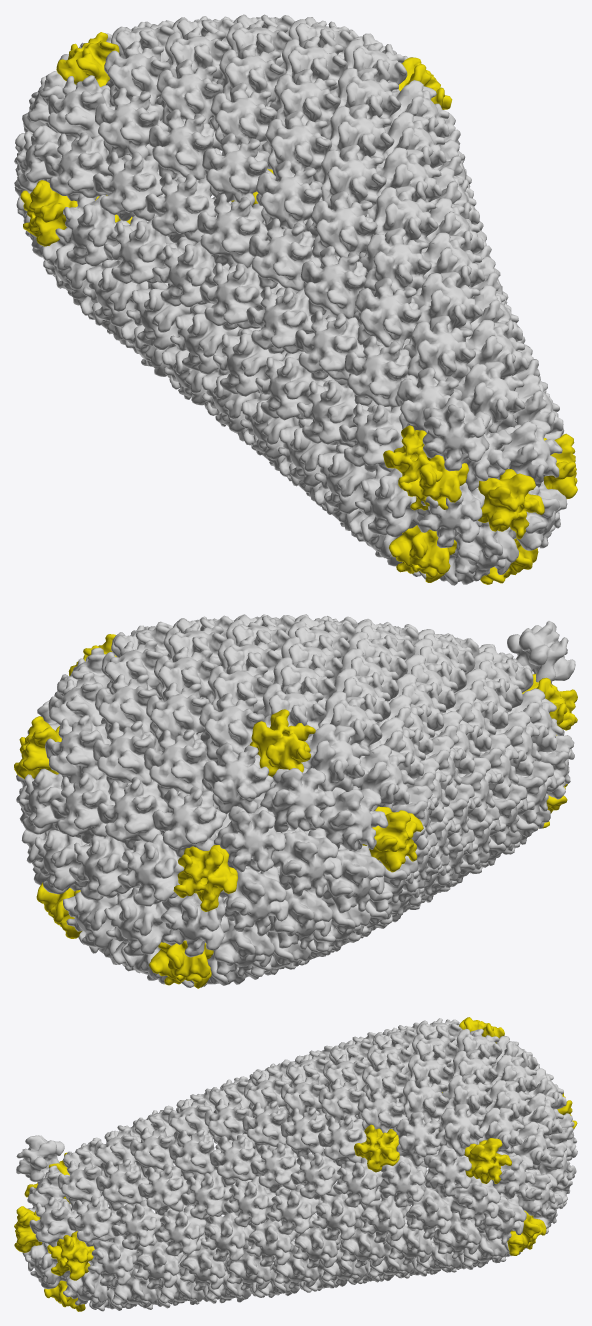
File: HIV_1_1_NucleocapsidHostMesh.dae
3 renders of one model, top to bottom at view 1: azimuth 30°, elevation 25°; view 2: azimuth 150°, elevation 25°; view 3: azimuth 270°, elevation 25°, orthographic. The views are drawn at different scales.
Visible parts, largest first — view 1: CoarseMS_hex001, CapsideF0hex001G439, CapsideF0hex001G449, CapsideF0hex001G42, CapsideF0hex001G458, CapsideF0hex001G450, CapsideF0hex001G412, CapsideF0hex001G457, CapsideF0hex001G4154, CapsideF0hex001G429, CapsideF0hex001G41, CapsideF0hex001G4159 (+73 smaller); view 2: CapsideF0hex001G416, CapsideF0hex001G422, CapsideF0hex001G421, CapsideF0hex001G415, CapsideF0hex001G417, CapsideF0hex001G4116, CapsideF0hex001G418, CapsideF0hex001G4115, CapsideF0hex001G426, CapsideF0hex001G4122, CapsideF0hex001G414, CapsideF0hex001G425 (+79 smaller); view 3: CapsideF0hex001G4156, CapsideF0hex001G470, CapsideF0hex001G4126, CapsideF0hex001G4161, CapsideF0hex001G4151, CapsideF0hex001G4127, CapsideF0hex001G4134, CapsideF0hex001G4149, CapsideF0hex001G480, CapsideF0hex001G4150, CapsideF0hex001G472, CapsideF0hex001G4157 (+83 smaller).
Boxes of the visible parts, left/top/right/bottom form: CoarseMS_hex001: left=422, top=396, right=490, bottom=471; CapsideF0hex001G439: left=197, top=193, right=268, bottom=267; CapsideF0hex001G449: left=248, top=218, right=321, bottom=291; CapsideF0hex001G42: left=92, top=151, right=162, bottom=221; CapsideF0hex001G458: left=344, top=336, right=417, bottom=407; CapsideF0hex001G450: left=300, top=246, right=373, bottom=318; CapsideF0hex001G412: left=145, top=173, right=216, bottom=242; CapsideF0hex001G457: left=295, top=310, right=364, bottom=380; CapsideF0hex001G4154: left=353, top=277, right=421, bottom=349; CapsideF0hex001G429: left=95, top=87, right=168, bottom=159; CapsideF0hex001G41: left=148, top=109, right=221, bottom=180; CapsideF0hex001G4159: left=403, top=315, right=475, bottom=381; CapsideF0hex001G416: left=202, top=742, right=273, bottom=814; CapsideF0hex001G422: left=260, top=767, right=335, bottom=832; CapsideF0hex001G421: left=272, top=828, right=342, bottom=897; CapsideF0hex001G415: left=152, top=786, right=226, bottom=857; CapsideF0hex001G417: left=214, top=806, right=286, bottom=872; CapsideF0hex001G4116: left=97, top=777, right=168, bottom=850; CapsideF0hex001G418: left=219, top=866, right=288, bottom=936; CapsideF0hex001G4115: left=117, top=834, right=184, bottom=906; CapsideF0hex001G426: left=319, top=786, right=388, bottom=851; CapsideF0hex001G4122: left=143, top=729, right=213, bottom=799; CapsideF0hex001G414: left=160, top=893, right=229, bottom=957; CapsideF0hex001G425: left=301, top=723, right=369, bottom=791; CapsideF0hex001G4156: left=138, top=1164, right=189, bottom=1215; CapsideF0hex001G470: left=154, top=1205, right=206, bottom=1256; CapsideF0hex001G4126: left=423, top=1145, right=471, bottom=1197; CapsideF0hex001G4161: left=67, top=1196, right=120, bottom=1246; CapsideF0hex001G4151: left=180, top=1169, right=232, bottom=1219; CapsideF0hex001G4127: left=392, top=1111, right=441, bottom=1166; CapsideF0hex001G4134: left=379, top=1155, right=427, bottom=1207; CapsideF0hex001G4149: left=209, top=1134, right=261, bottom=1185; CapsideF0hex001G480: left=267, top=1184, right=319, bottom=1234; CapsideF0hex001G4150: left=224, top=1176, right=275, bottom=1227; CapsideF0hex001G472: left=87, top=1235, right=136, bottom=1286; CapsideF0hex001G4157: left=111, top=1199, right=162, bottom=1249.
Size of the model in its own units: 619 by 1121 by 568.
